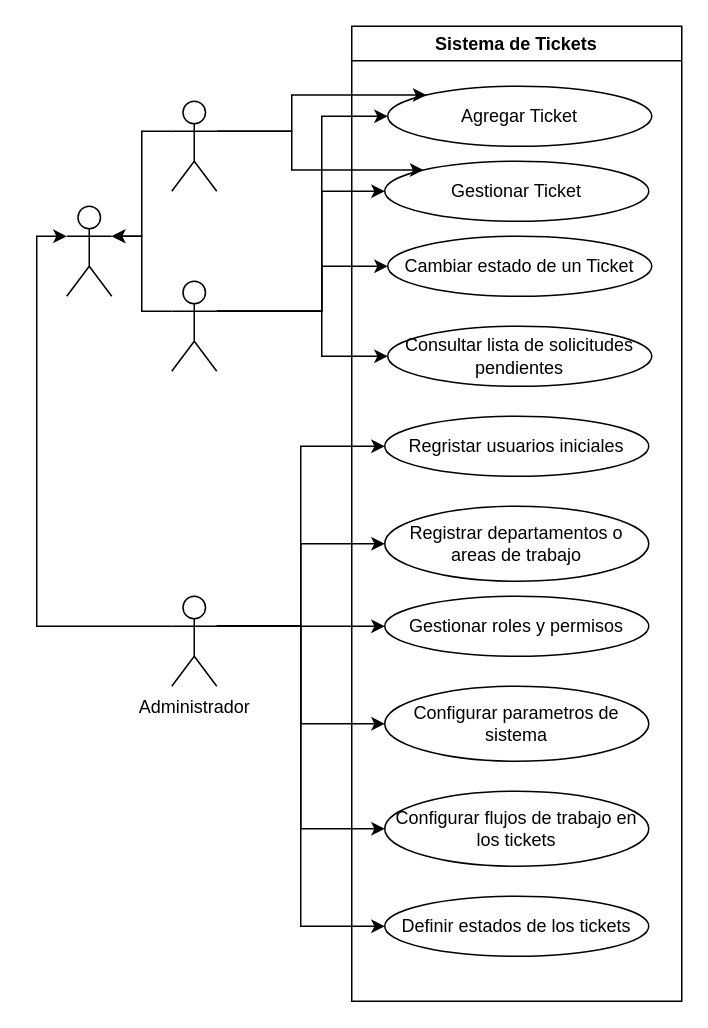
The diagram is 708 pixels wide and 1028 high, and some of its shapes have lost their labels. The shapes that lost their labels are listed below. From the top down, each one's centre as x and y in pixels, then its label:
At pixel 193 145: "Usuario".
At pixel 88 250: "Persona".
At pixel 193 325: "Tecnico".
